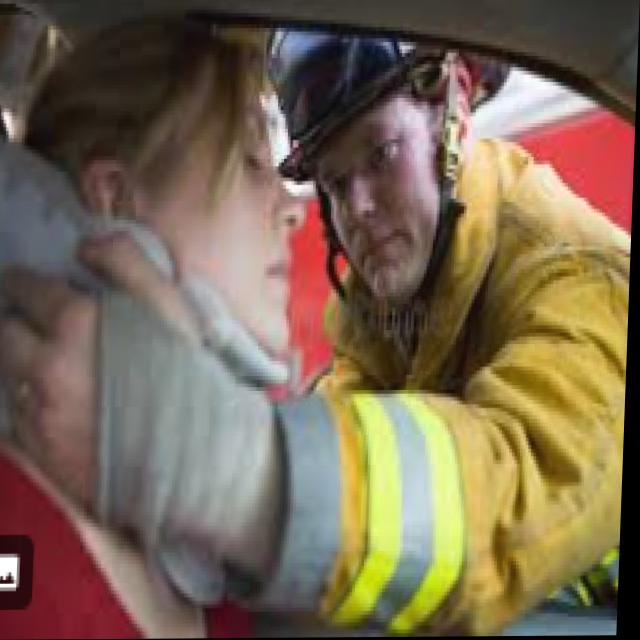injury: (28, 14, 309, 392), (305, 34, 454, 326)
